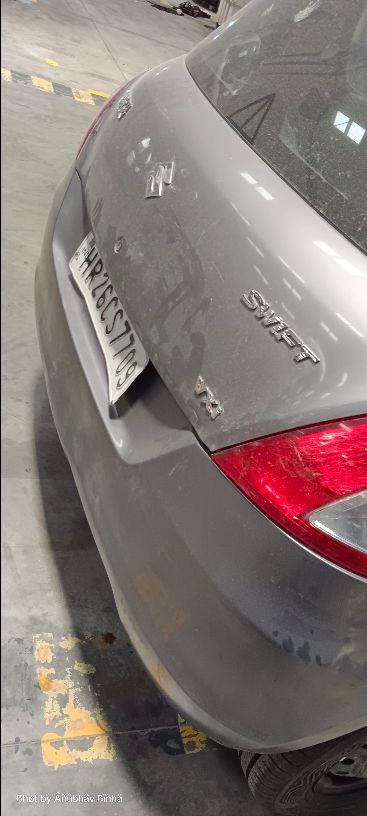license_plate: (67, 228, 150, 408)
